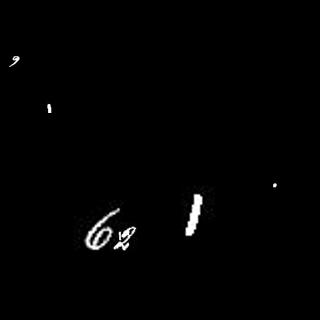dot: (268, 175, 281, 190)
nine: (8, 53, 21, 67)
one: (186, 192, 202, 238), (46, 100, 51, 116)
six: (86, 204, 119, 250)
two: (114, 224, 139, 252)
